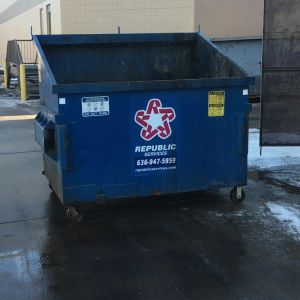Dumpster: (30, 23, 258, 224)
